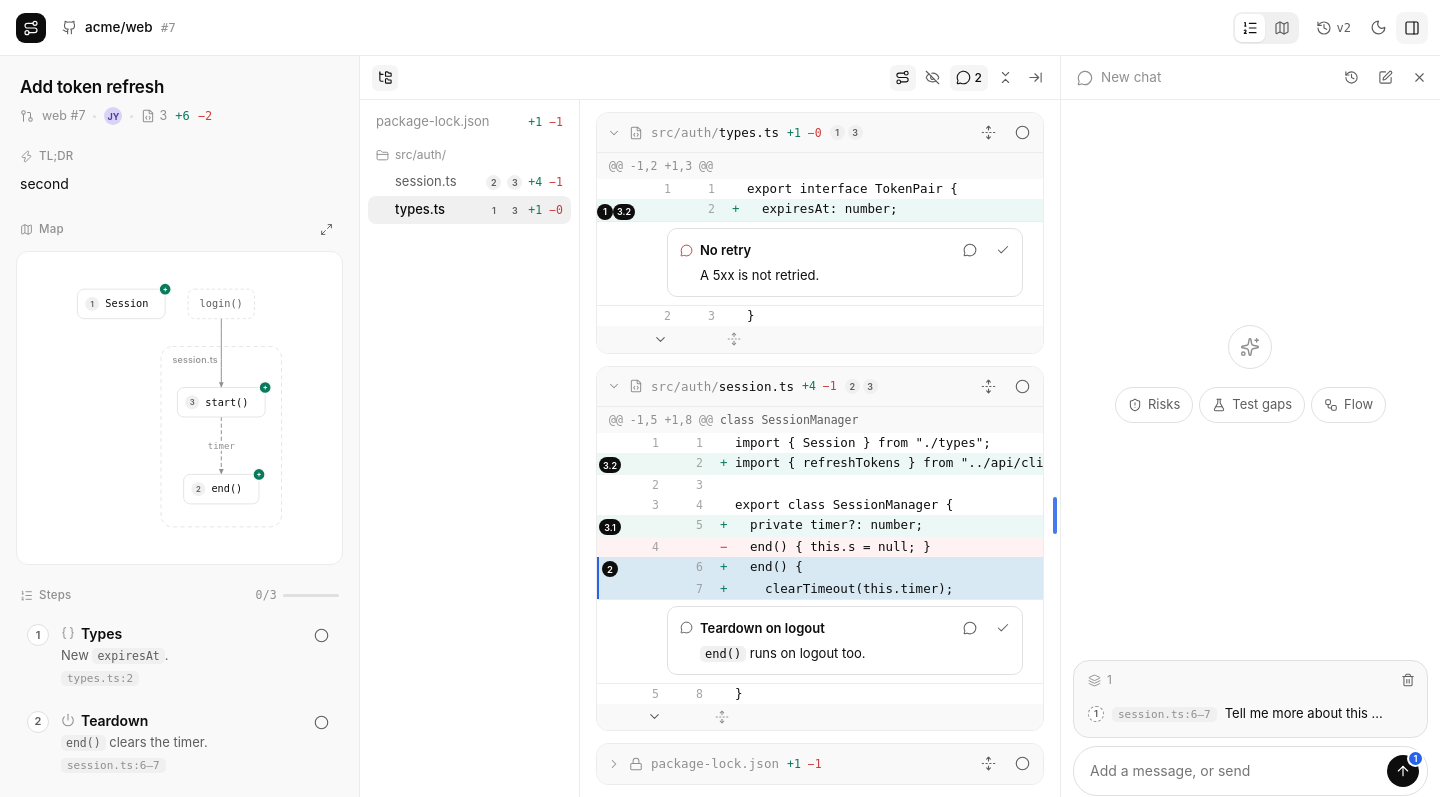
Test case: version history: shown once there are two, and picking one swaps the guide
Expected: the heading "Add token refresh" is shown, [20,77,164,97]
Expected: the text with class "tldr" reads "second", [20,175,69,192]
Click the button "v2" at (1333, 28), box [1306,12,1360,44]
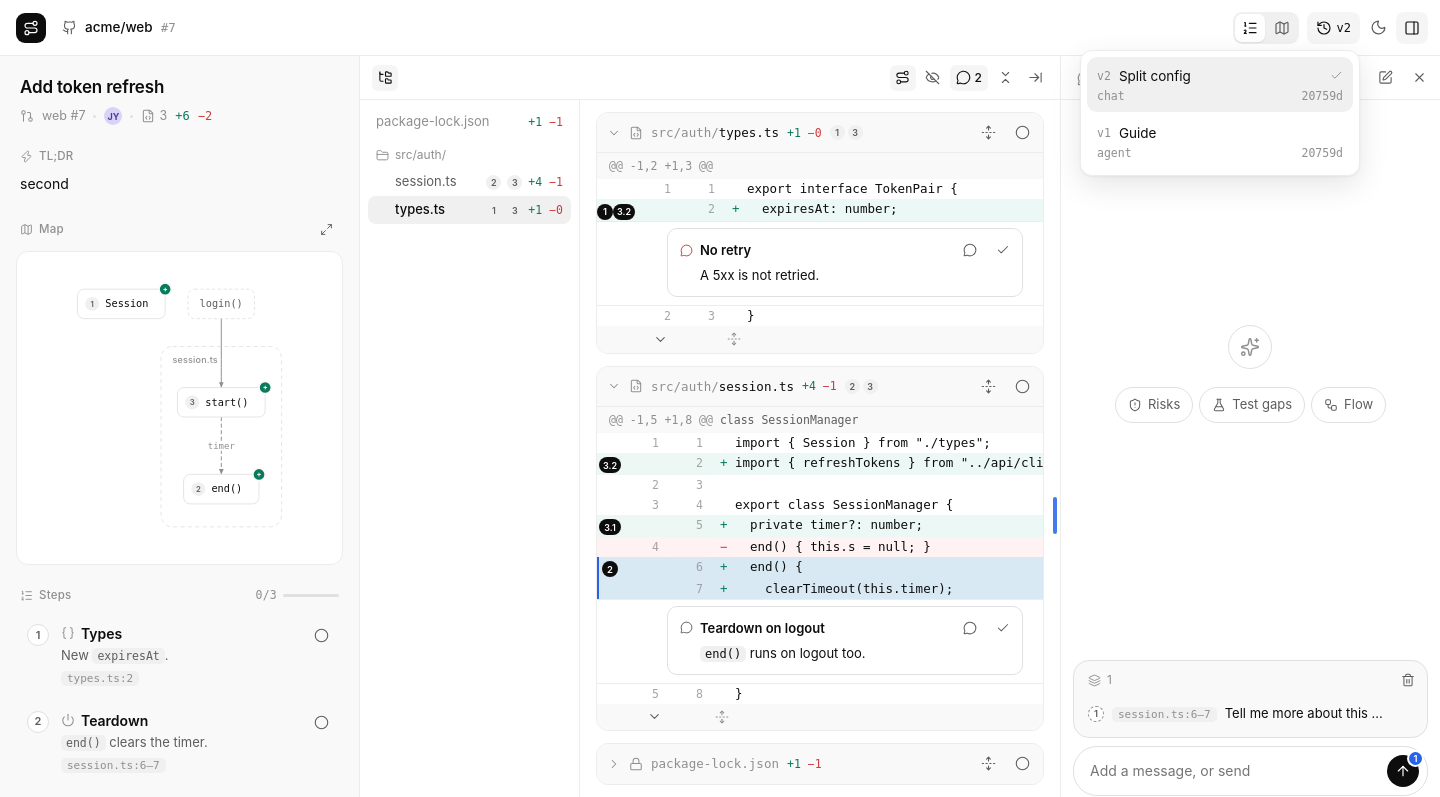
Click the menu item "v1 Guide agent 20759d" at (1138, 133), box [1087,114,1353,169]
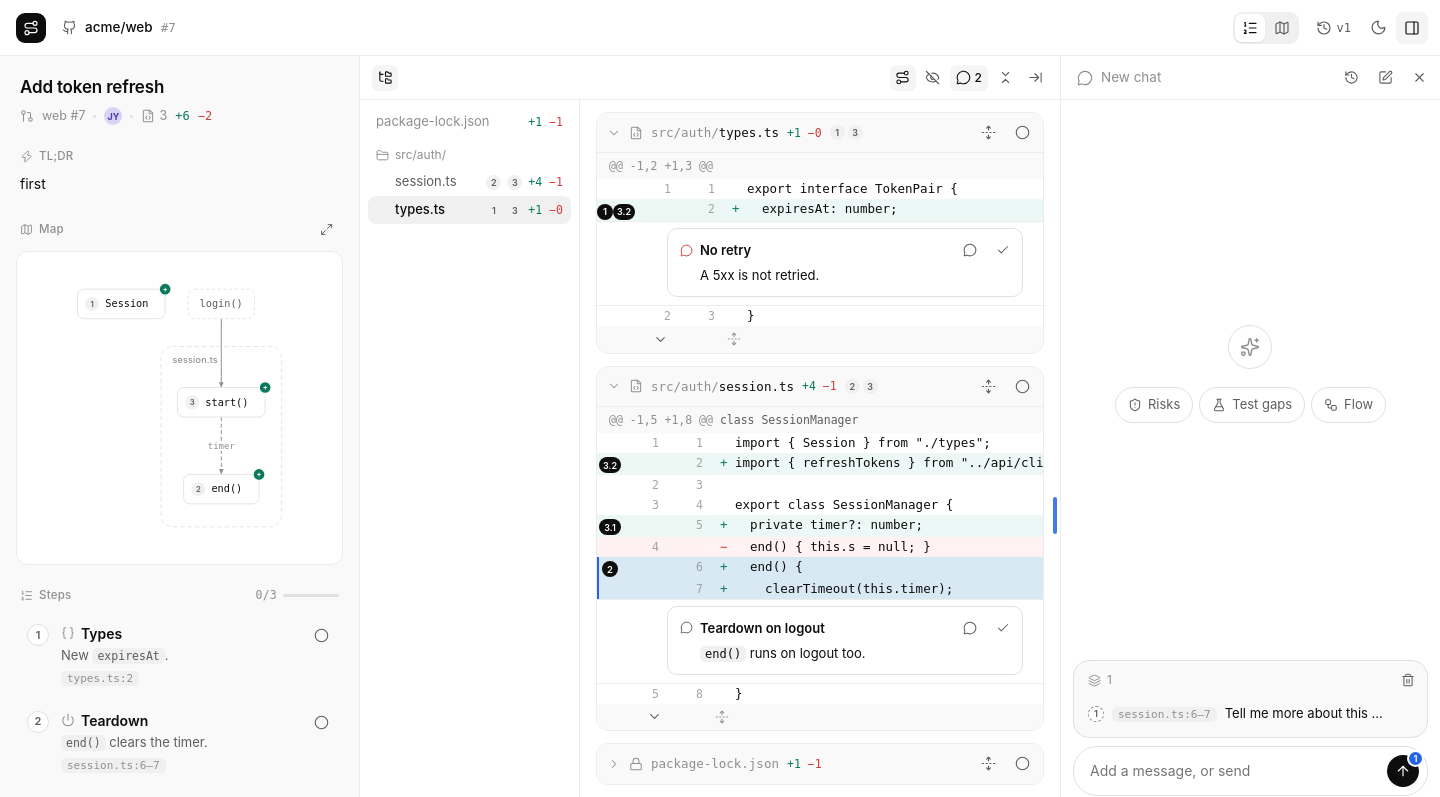
Expected: the text with class "tldr" reads "first", [20,175,46,192]
